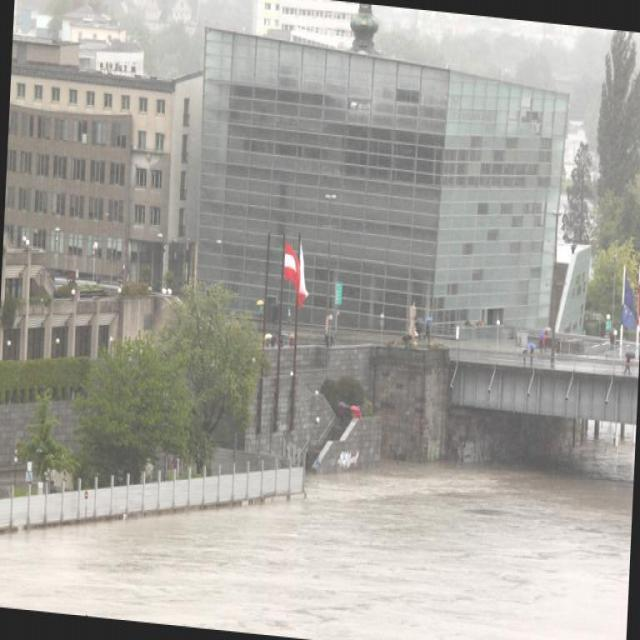flood: (0, 386, 635, 639)
